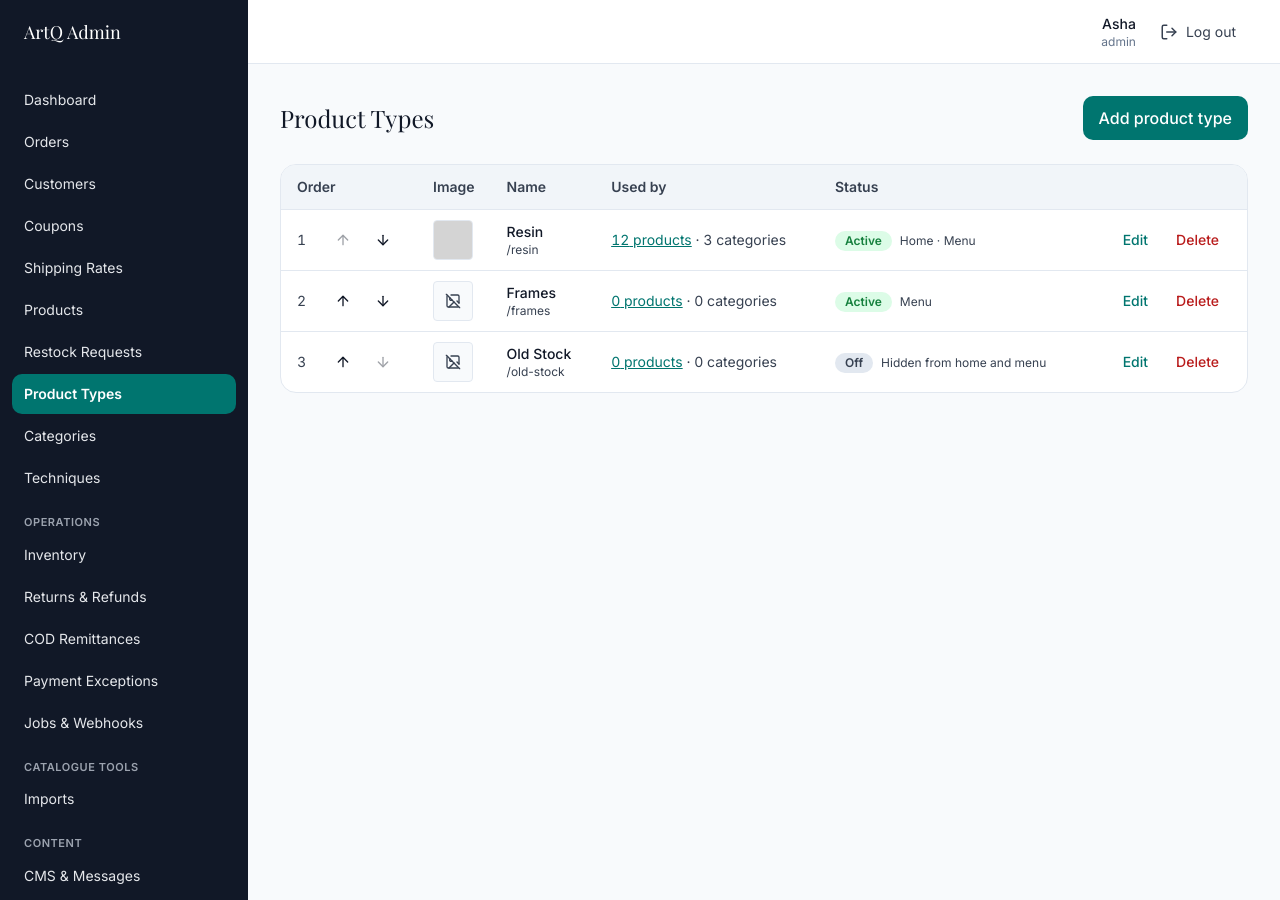
Scenario: Product Types page › ✅ deleting a type in use: the API refusal is explained, with a link to its products
Expected: the text "Resin" is shown, [507,223,543,240]
Click the button with aria-label "Delete Resin". click: [1198, 240]
box: [1164,218,1231,262]
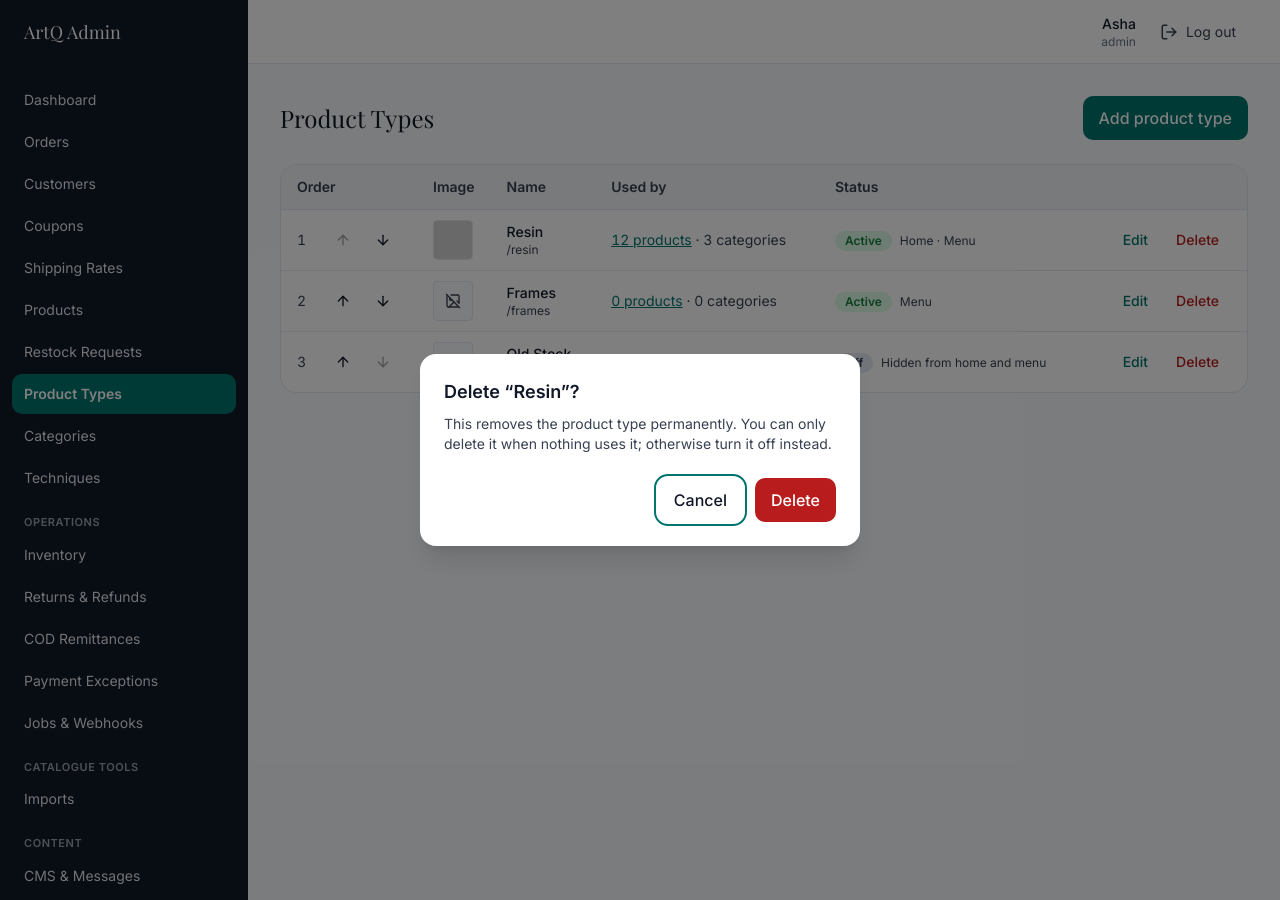
Click the button "Delete". click: [795, 500]
box: [755,478,836,522]
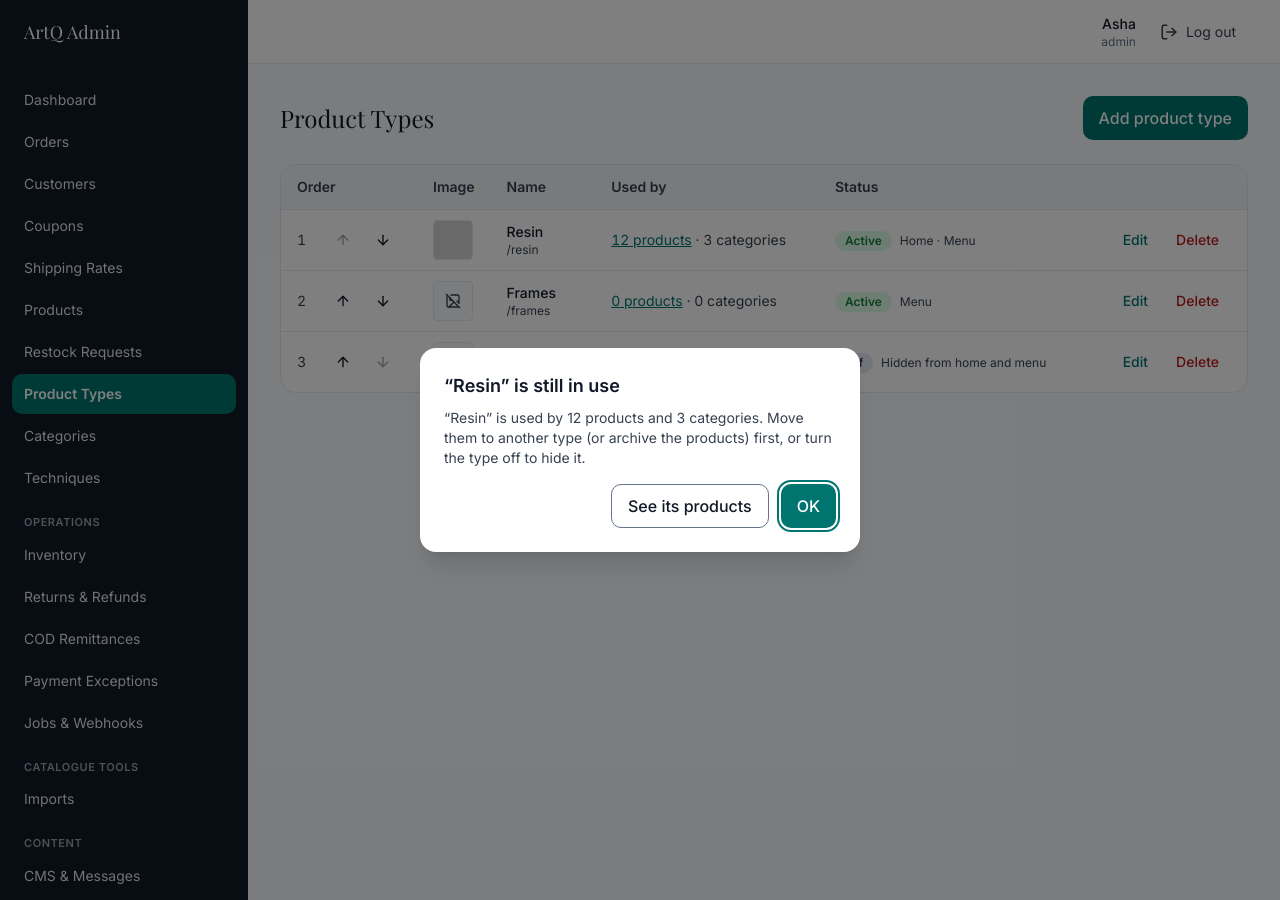
Now the text "12 products and 3 categories" is shown, box [444,409,832,466]
